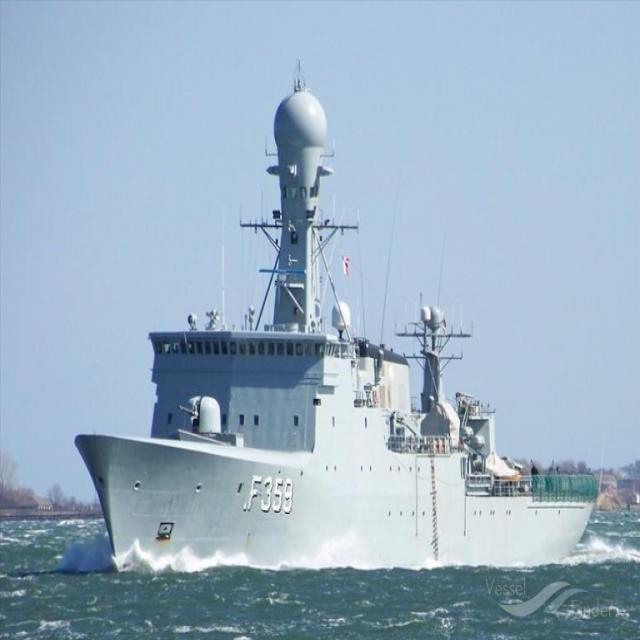OCR: (242, 473, 295, 522)
